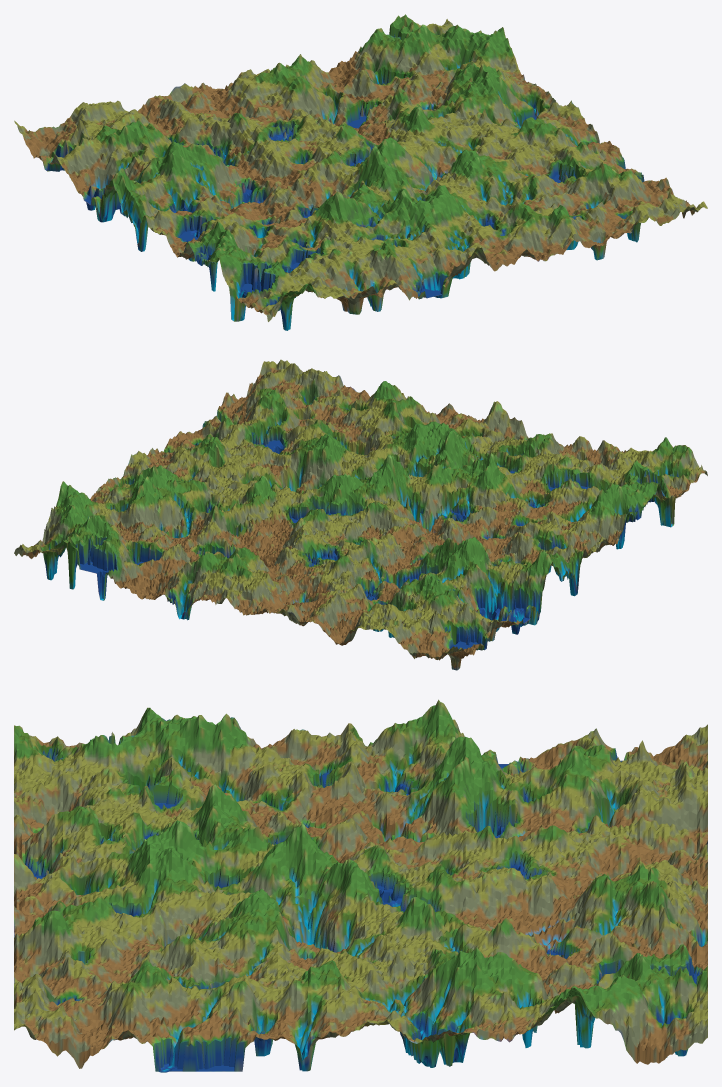
The model's file is landscape_ARCHIPELAGO.obj.
3 renders of one model, top to bottom at view 1: azimuth 30°, elevation 25°; view 2: azimuth 150°, elevation 25°; view 3: azimuth 270°, elevation 25°, orthographic. The views are drawn at different scales.
Parts seen in each view (by area): view 1: terrain_ARCHIPELAGO; view 2: terrain_ARCHIPELAGO; view 3: terrain_ARCHIPELAGO.
Boxes of the visible parts, x1,y1,x2,y2 form: terrain_ARCHIPELAGO: (14, 14, 707, 330); terrain_ARCHIPELAGO: (14, 359, 707, 670); terrain_ARCHIPELAGO: (14, 699, 707, 1072).
Bounding box in the file's own units: 255 × 39.42 × 255.
1 material, 1 textured.
